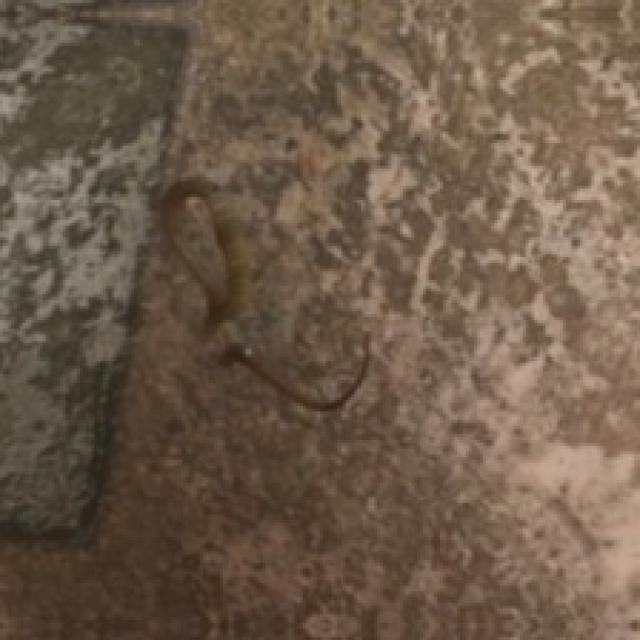reddish rat snake: (163, 177, 369, 409)
